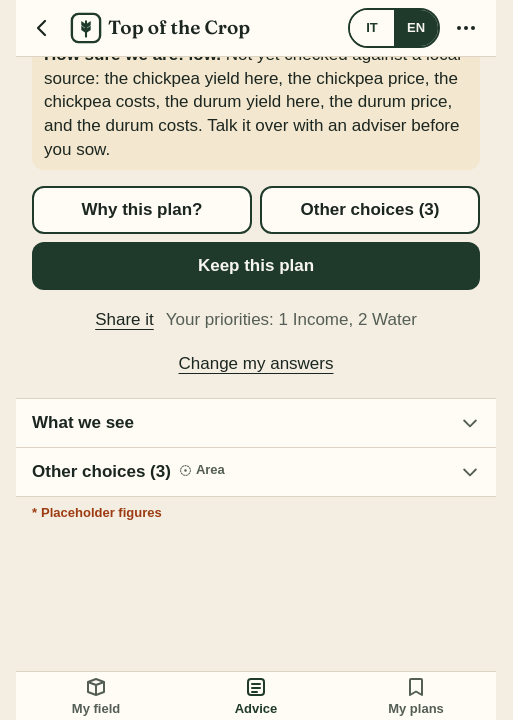
Test: the plan's buttons › Change my answers opens Questions on the priorities, and Keep this plan the field's day
(page scrolled)
Click the link with test id "change-answers". click: (256, 363)
box: left=178, top=354, right=334, bottom=373
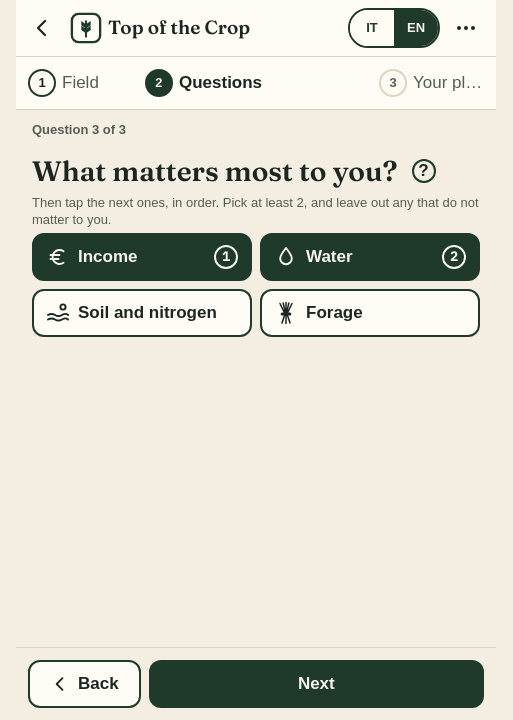
Check: the text with test id "question-step" reads "Question 3 of 3", box left=32, top=122, right=126, bottom=137
Click the button "Next". click: (316, 684)
box: left=149, top=660, right=484, bottom=708
(page scrolled)
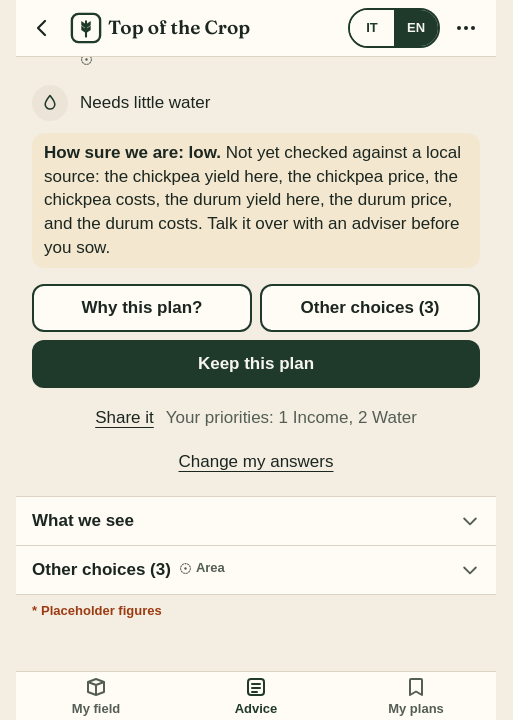
Click the link with test id "keep-plan". click: (256, 364)
box: left=32, top=340, right=480, bottom=388
(page scrolled)
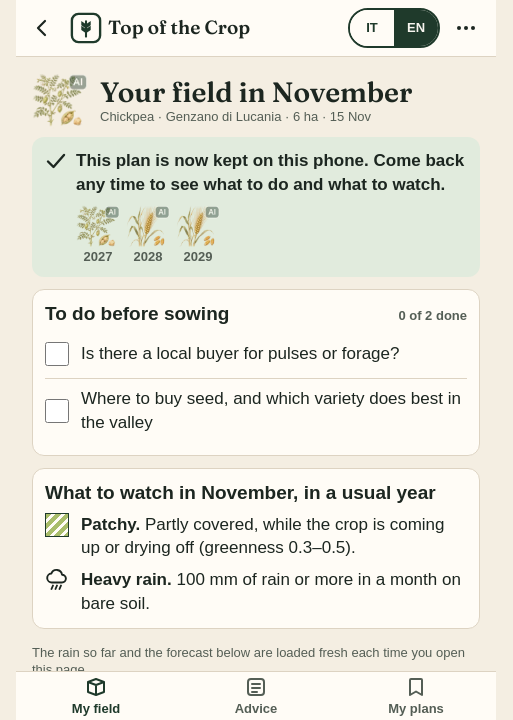
Check: the message with test id "plan-change" is shown, box left=32, top=137, right=480, bottom=278
